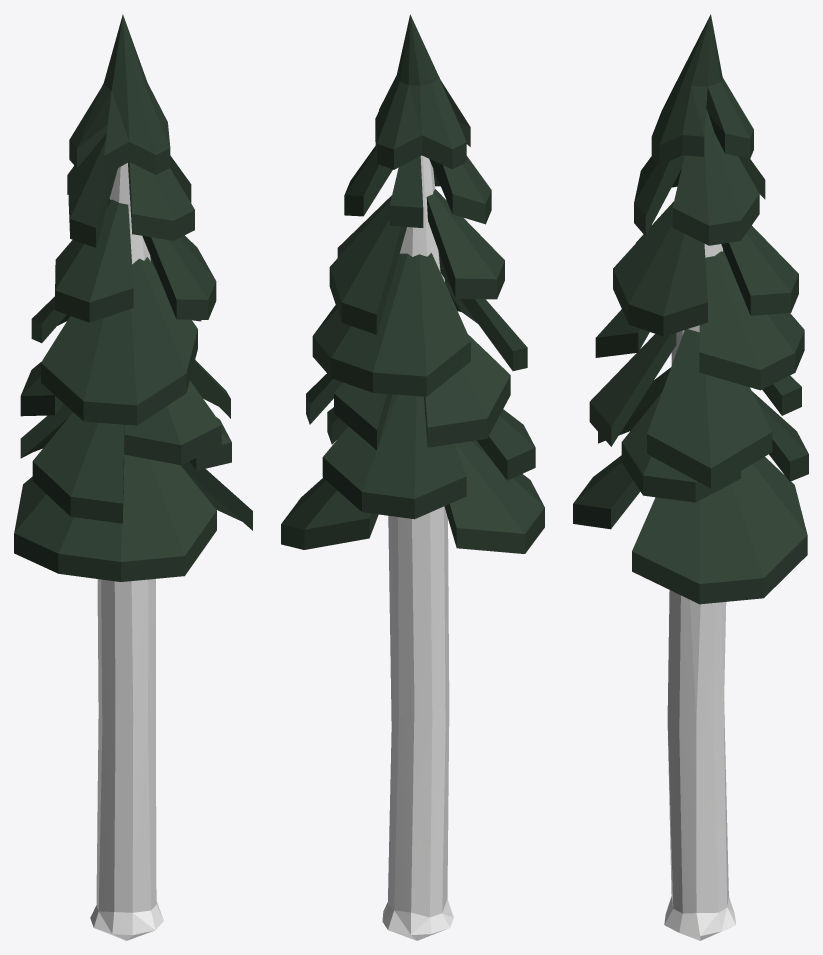
Rendered from Arbol_06.glb.
The picture shows the model from 3 angles, left to right: view 1: azimuth 30°, elevation 25°; view 2: azimuth 150°, elevation 25°; view 3: azimuth 270°, elevation 25°; orthographic projection.
Visible parts, largest first — view 1: SM_Env_Tree_Pine_Large_03_1; view 2: SM_Env_Tree_Pine_Large_03_1; view 3: SM_Env_Tree_Pine_Large_03_1.
Boxes of the visible parts, x1,y1,x2,y2 form: SM_Env_Tree_Pine_Large_03_1: [14, 14, 252, 940]; SM_Env_Tree_Pine_Large_03_1: [281, 14, 544, 940]; SM_Env_Tree_Pine_Large_03_1: [573, 14, 808, 940].
Size of the model in its own units: 2.02 by 7.91 by 1.82.
Materials: 1 (1 with a texture image).
